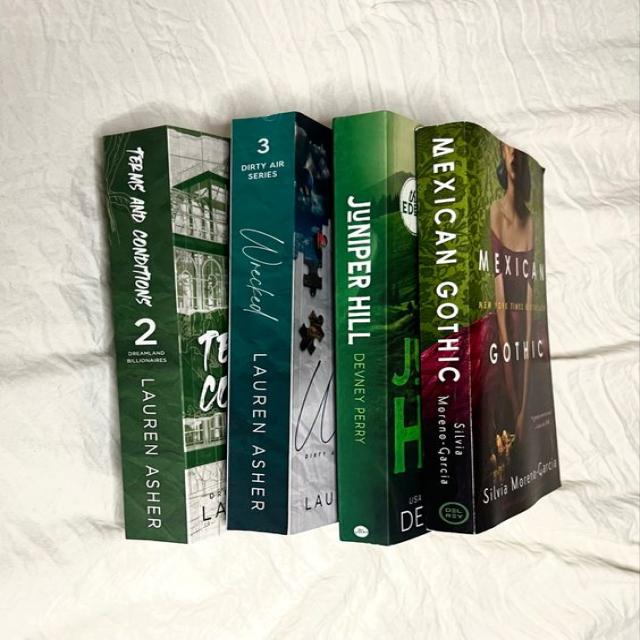book: (106, 125, 186, 542), (230, 112, 295, 536), (414, 120, 477, 534), (334, 112, 391, 544)
